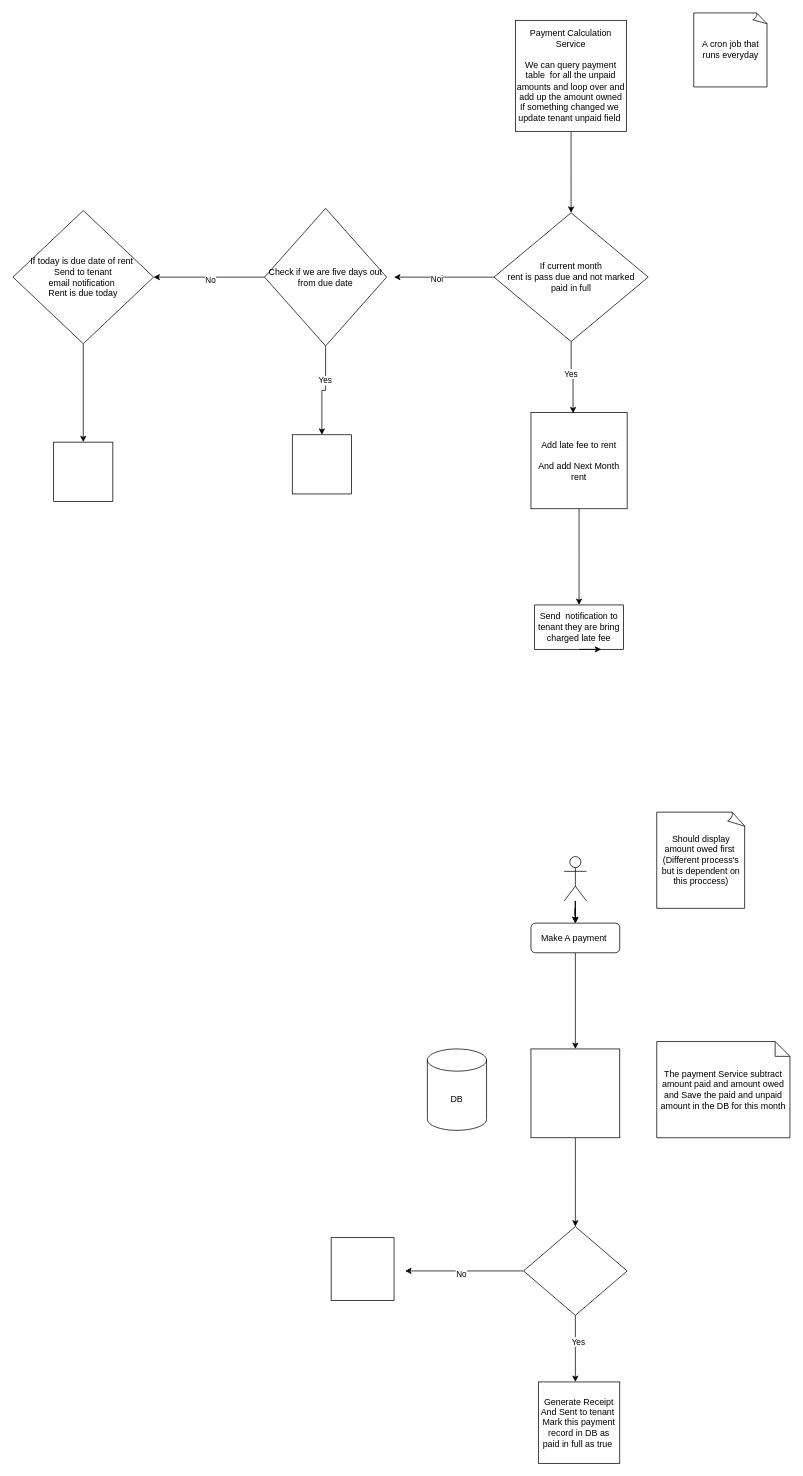
Some shapes in this 803 by 1476 pixel diagram are drawn without their labels. The shapes that lost their labels are listed below. From the top down, each one's centre as x and y in pixels, then its label:
the point at 83,471: Send Email letting tenant know rent is due today at 12:00pm
the point at 322,464: Send Email to tenant letting them know rent is due in five days
the point at 575,878: Actor
the point at 575,1093: Payment Service
the point at 362,1269: Save to payment table not paid in full
the point at 575,1270: If paid in full
